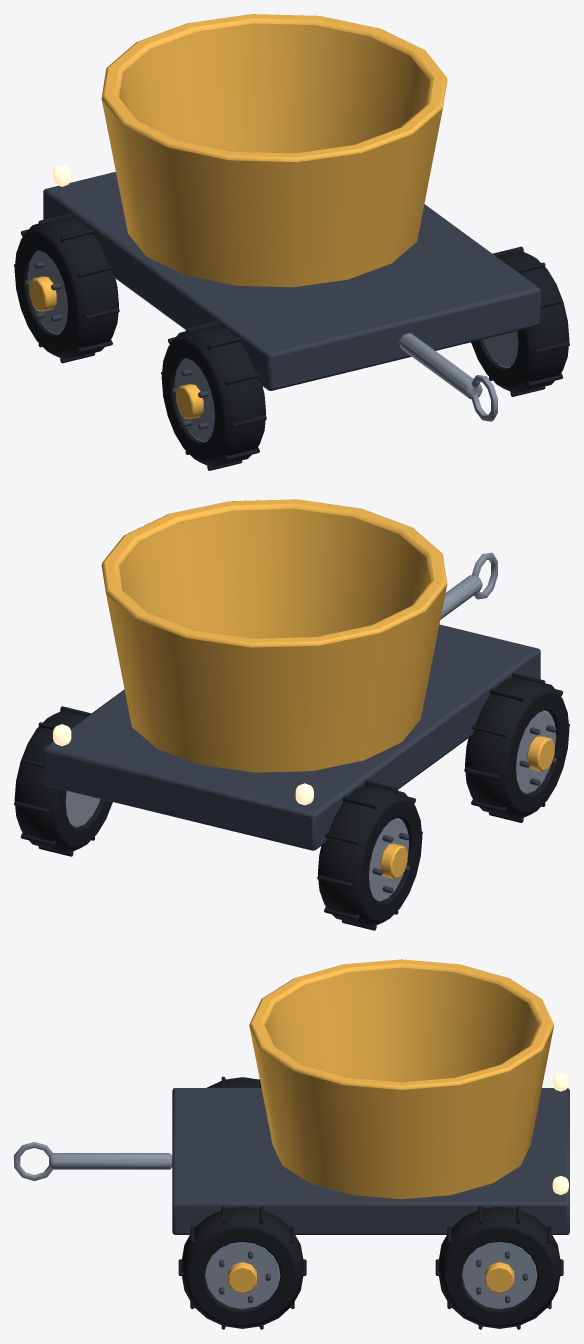
Rendered from sammelwagen.fbx.
3 views of the same model, one above another, from view 1: azimuth 30°, elevation 25°; view 2: azimuth 150°, elevation 25°; view 3: azimuth 270°, elevation 25° (orthographic). The views are drawn at different scales.
Visible parts, largest first — view 1: sammelwagen_Koerper, sammelwagen; view 2: sammelwagen_Koerper, sammelwagen; view 3: sammelwagen_Koerper, sammelwagen.
Part boxes in pixels (<box>): sammelwagen_Koerper: <box>43,14,540,421</box>; sammelwagen: <box>14,213,569,470</box>; sammelwagen_Koerper: <box>43,499,540,850</box>; sammelwagen: <box>14,672,569,930</box>; sammelwagen_Koerper: <box>14,959,569,1234</box>; sammelwagen: <box>178,1076,563,1329</box>.
Bounding box in the file's own units: 1.2 × 0.85 × 1.82.
